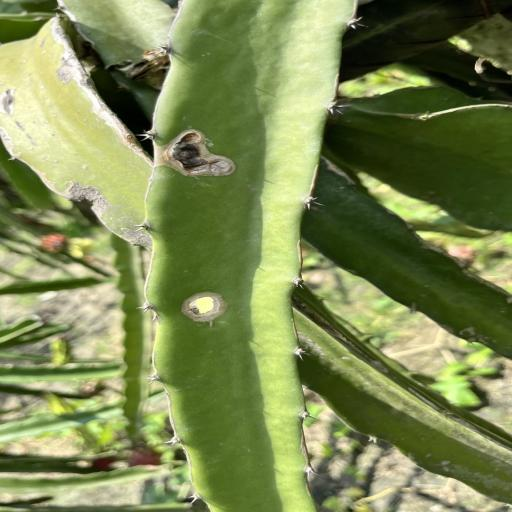stemcanker: (38, 112, 100, 129), (31, 143, 64, 166), (433, 457, 463, 474), (73, 158, 94, 172), (340, 352, 359, 366), (36, 82, 54, 92), (185, 124, 196, 130)
